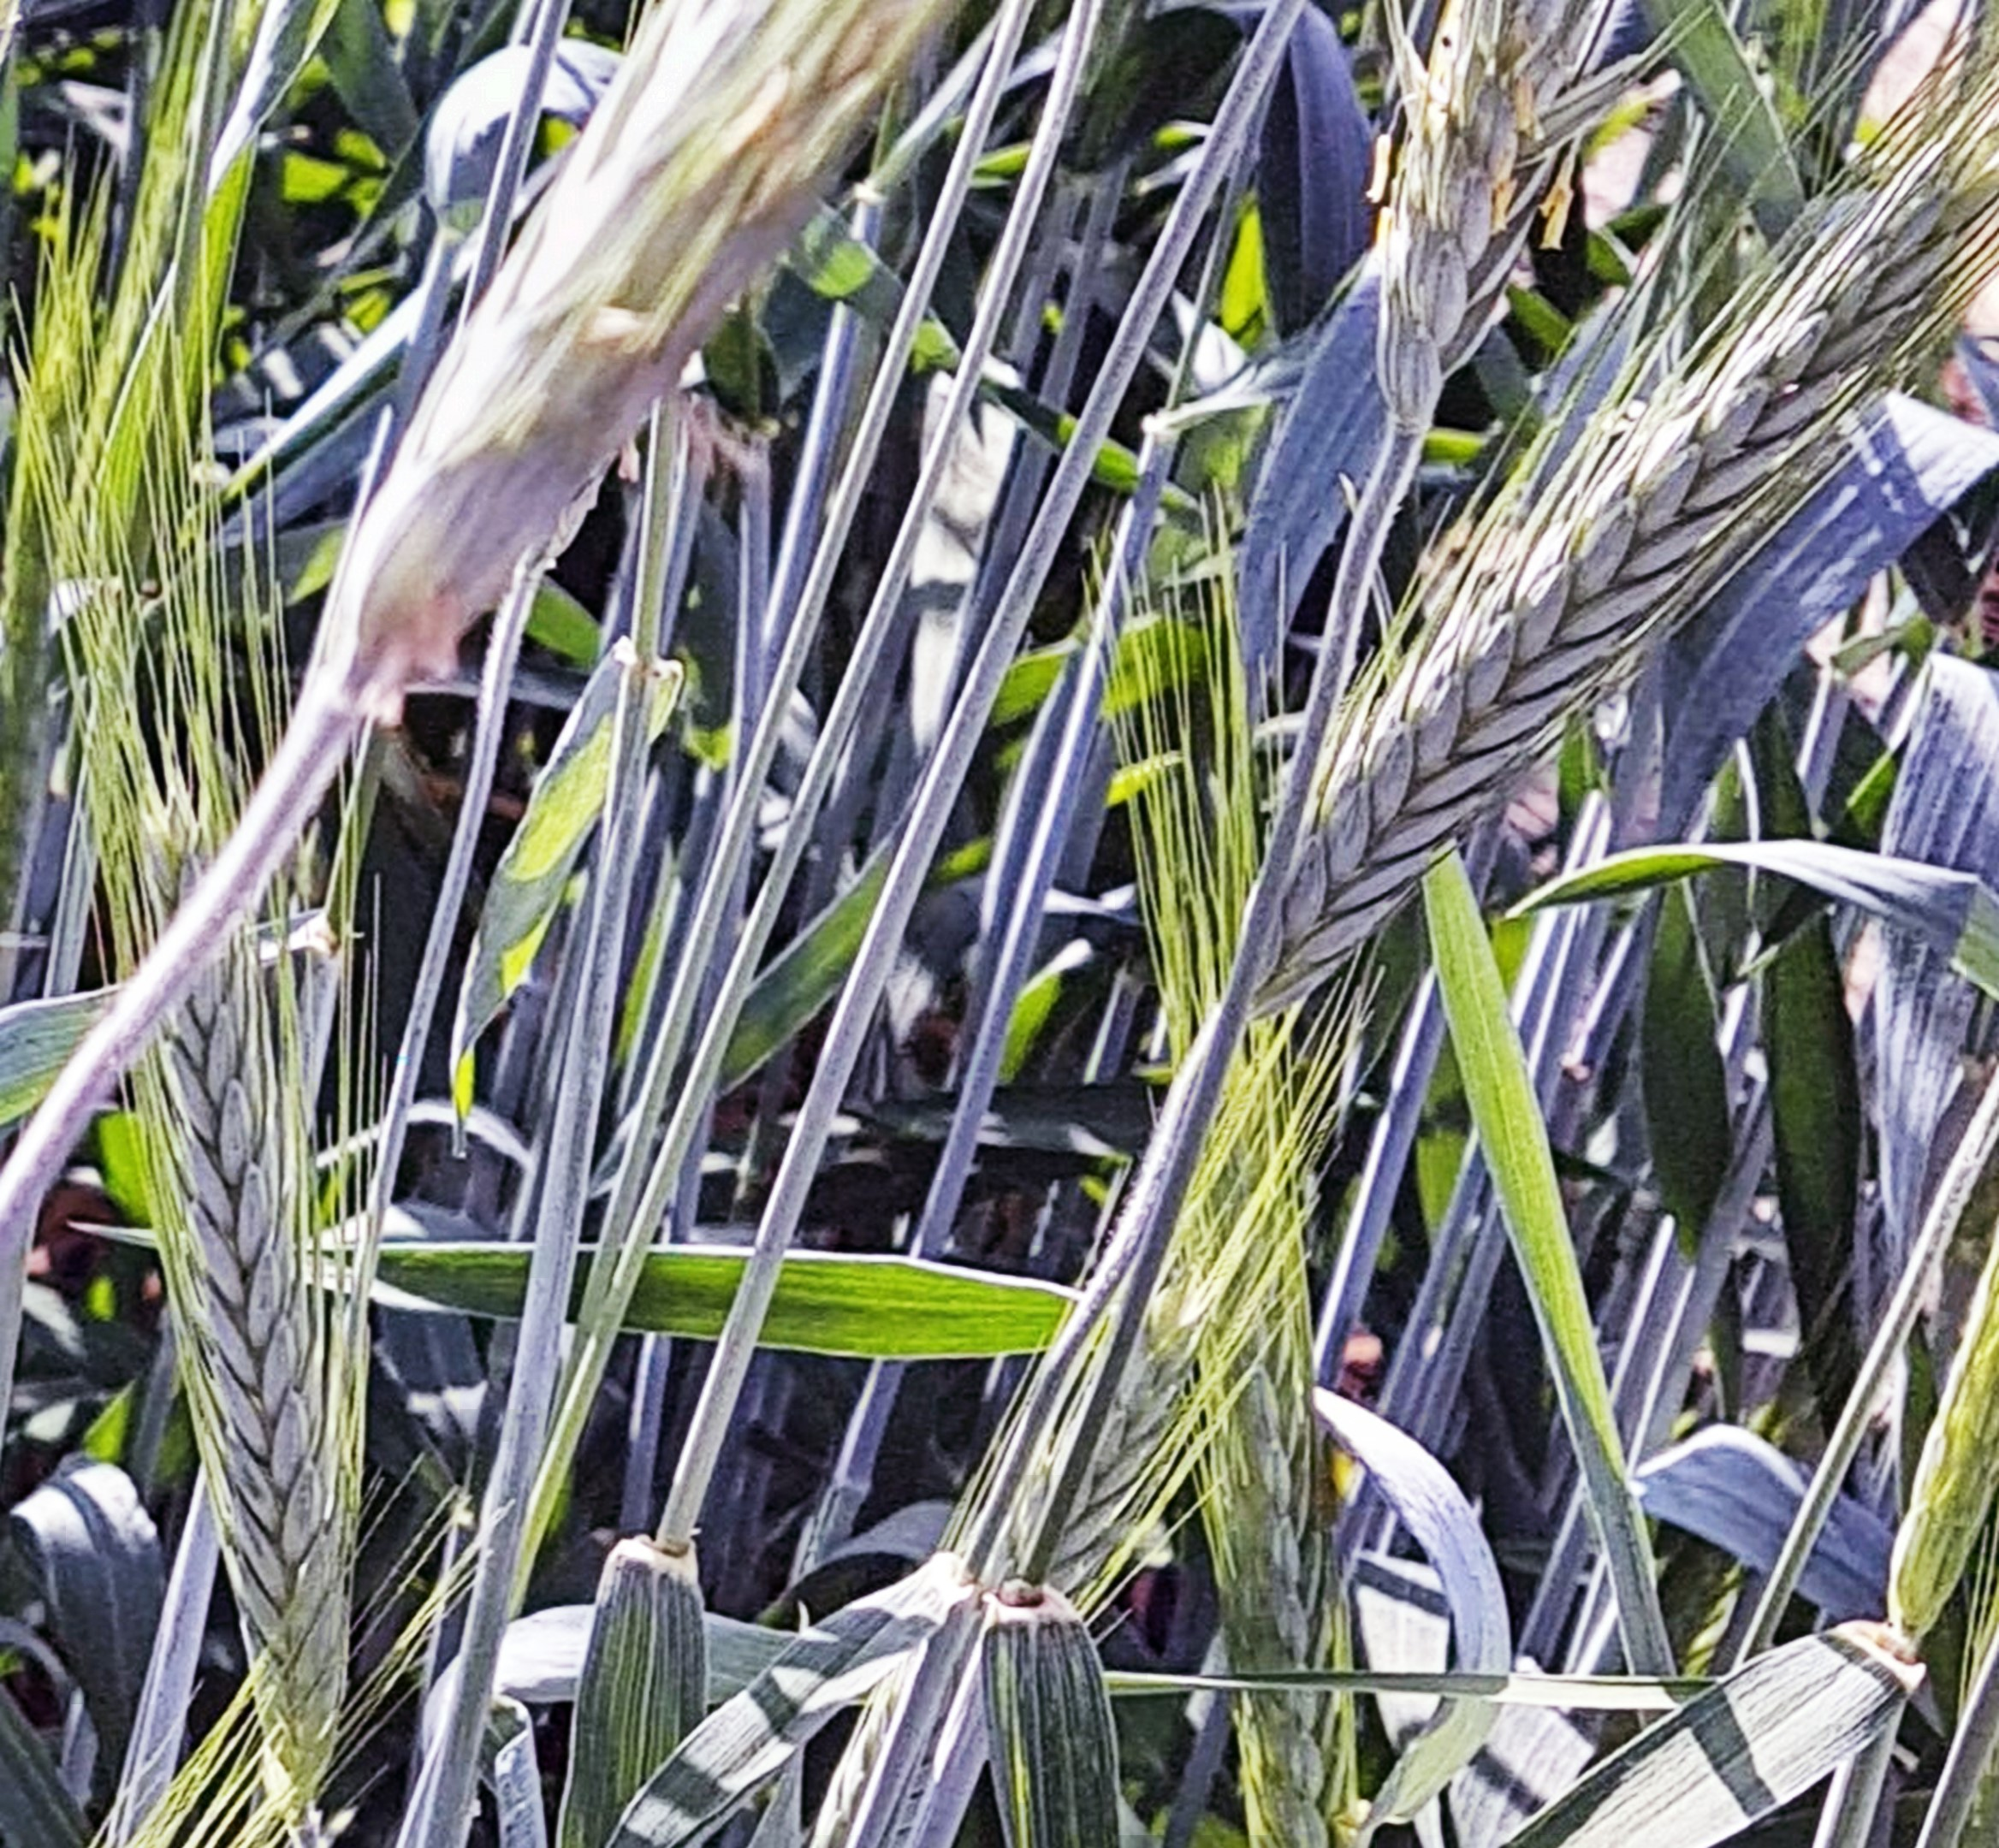Healthy Wheat: (1287, 151, 1997, 969)
